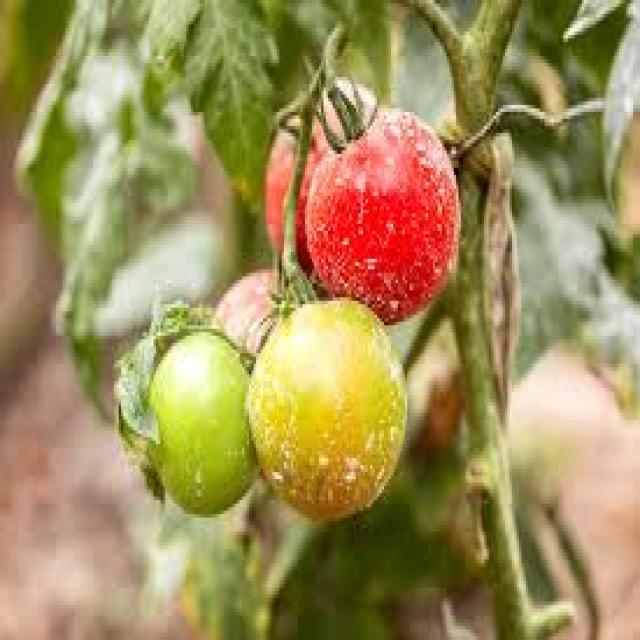organic waste: (305, 80, 456, 318), (247, 294, 405, 518), (140, 318, 256, 518), (263, 80, 375, 273), (210, 259, 294, 350)
